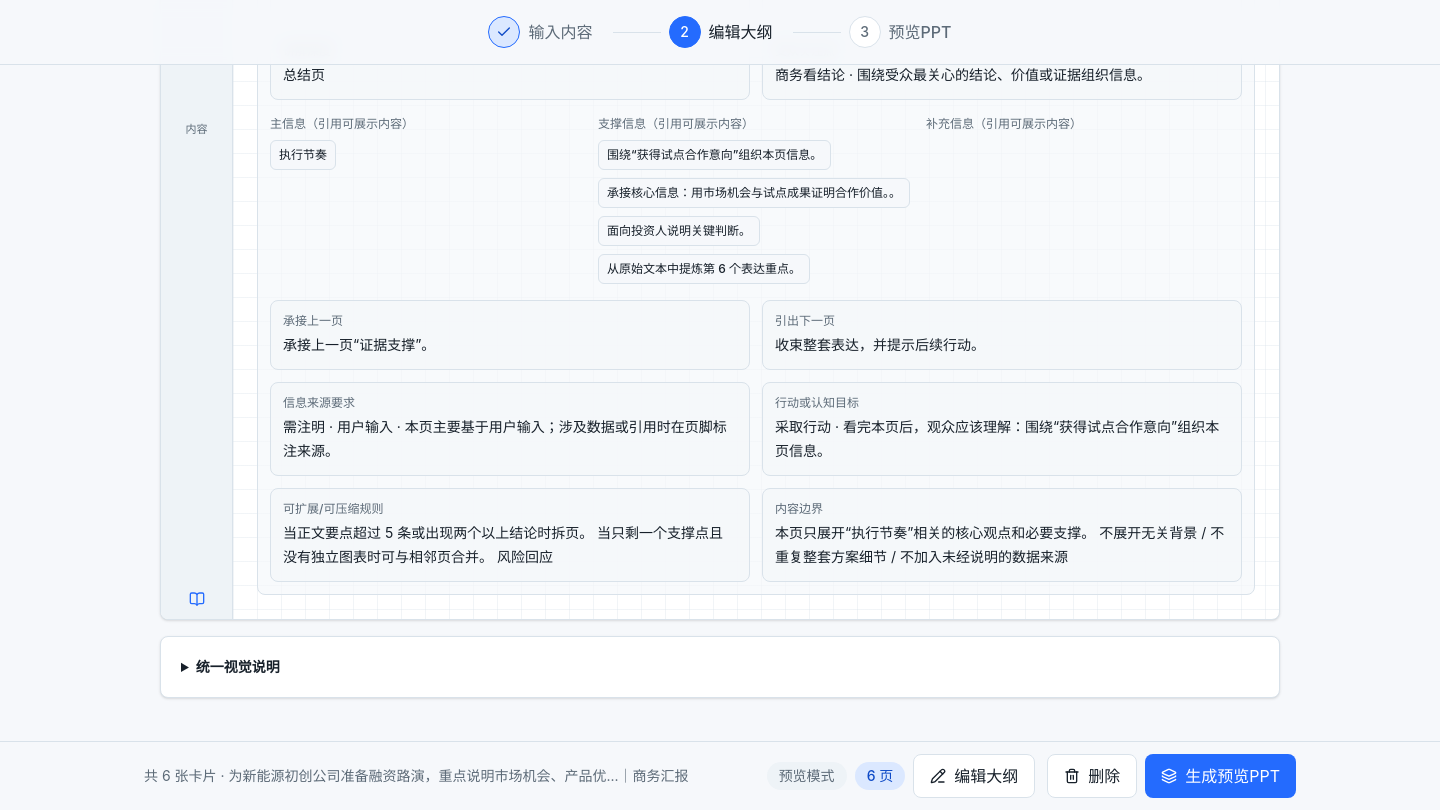
Test case: workbench stepped flow › renders duplicate font fallback values without duplicate key errors
(page scrolled)
Click the heading "统一视觉说明" at (238, 666), box [196, 658, 280, 675]
(page scrolled)
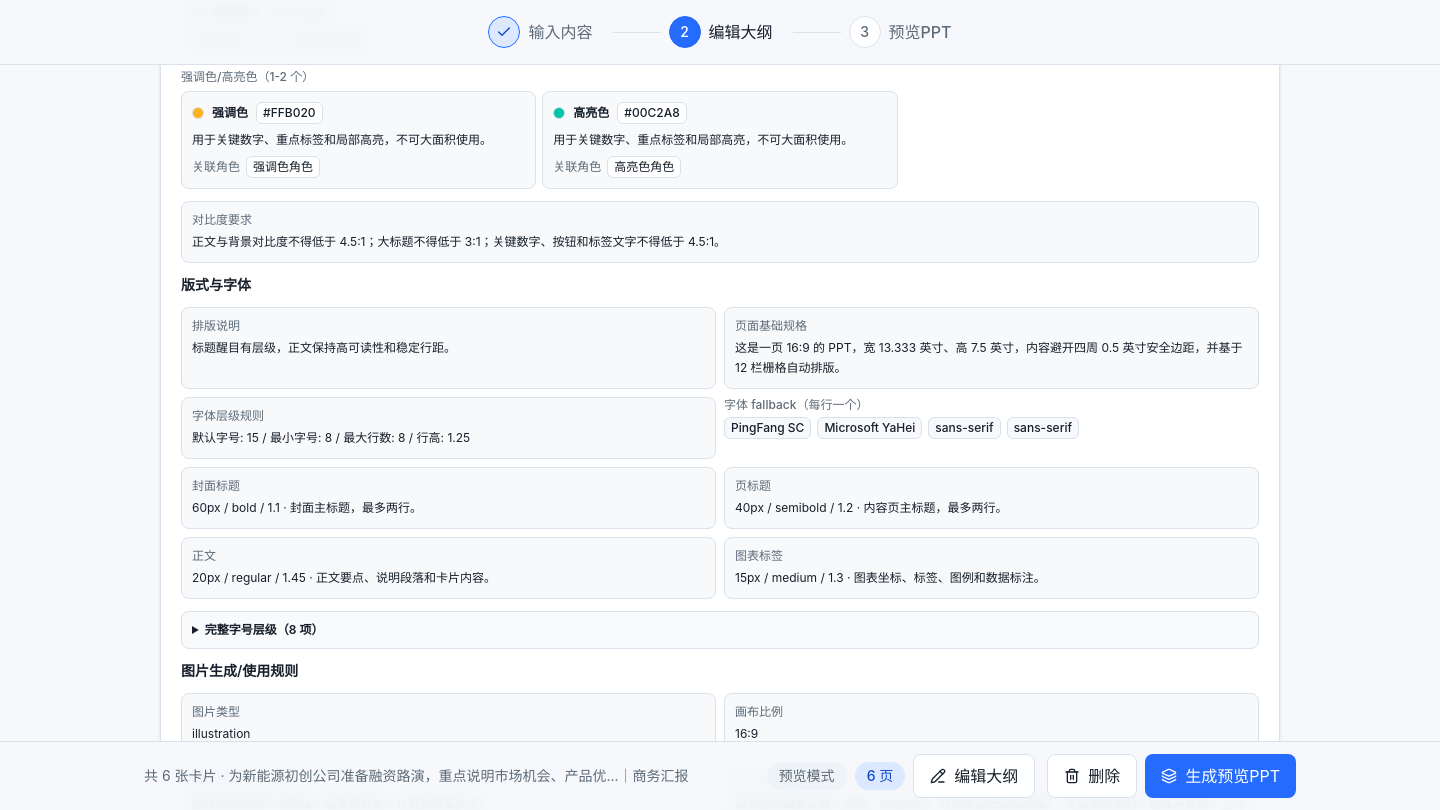
Now the text "字体 fallback（每行一个）" is shown, box [724, 397, 868, 412]
Now the text "sans-serif" is shown 2 times, box [935, 420, 994, 436]; [1014, 420, 1072, 436]
